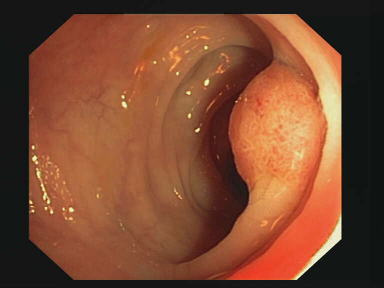polyp: (224, 70, 335, 196)
